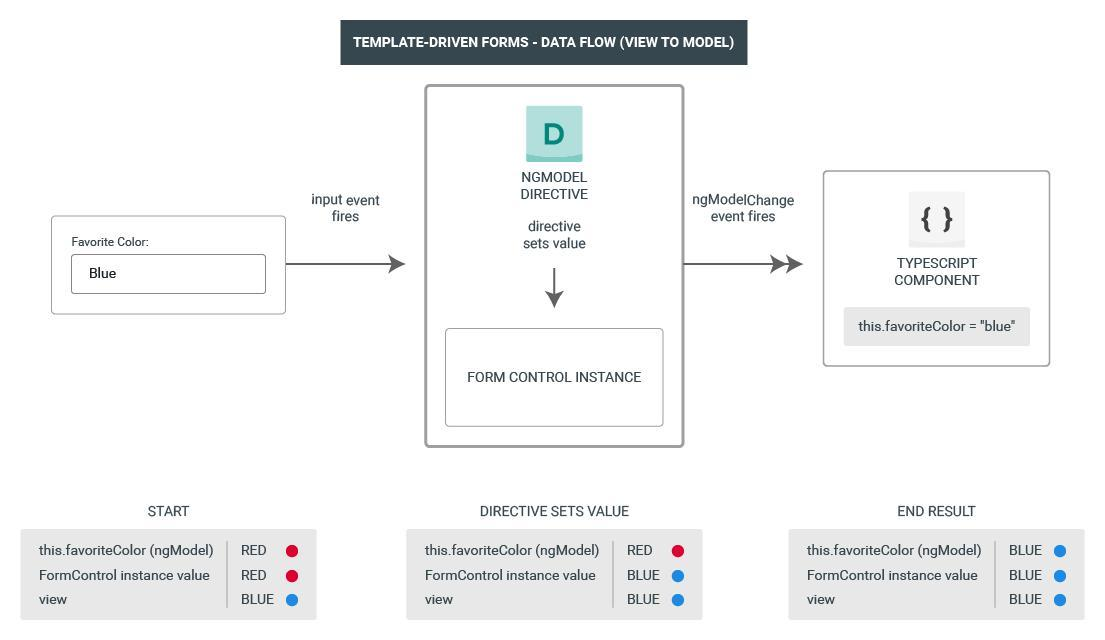input: (846, 306, 1030, 347), (71, 256, 268, 294)
label: (67, 230, 155, 249)
